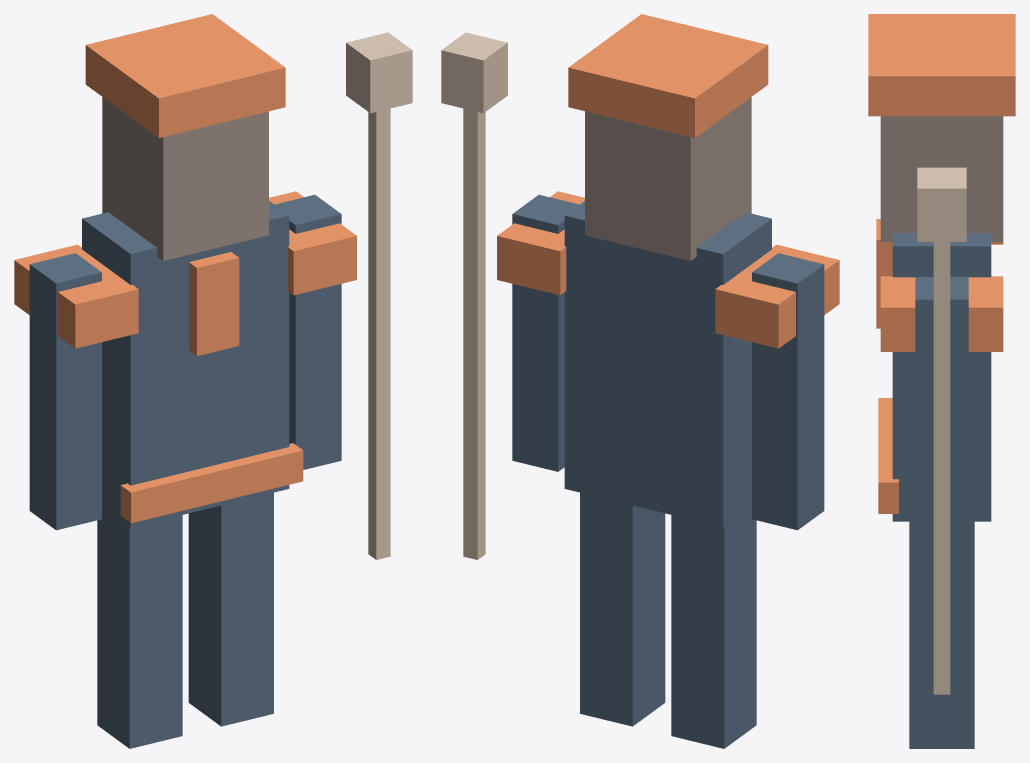
File: 03_asha_dubwater_operator_from_passenger.glb
The picture shows the model from 3 angles, left to right: view 1: azimuth 30°, elevation 25°; view 2: azimuth 150°, elevation 25°; view 3: azimuth 270°, elevation 25°; orthographic projection.
Parts seen in each view (by area): view 1: Asha Dubwater, Operator from Passenger; view 2: Asha Dubwater, Operator from Passenger; view 3: Asha Dubwater, Operator from Passenger.
Boxes of the visible parts, x1,y1,x2,y2 form: Asha Dubwater, Operator from Passenger: (14,14,412,748); Asha Dubwater, Operator from Passenger: (441,14,839,748); Asha Dubwater, Operator from Passenger: (868,14,1015,748).
Bounding box in the file's own units: 0.9483 × 1.68 × 0.3363.
